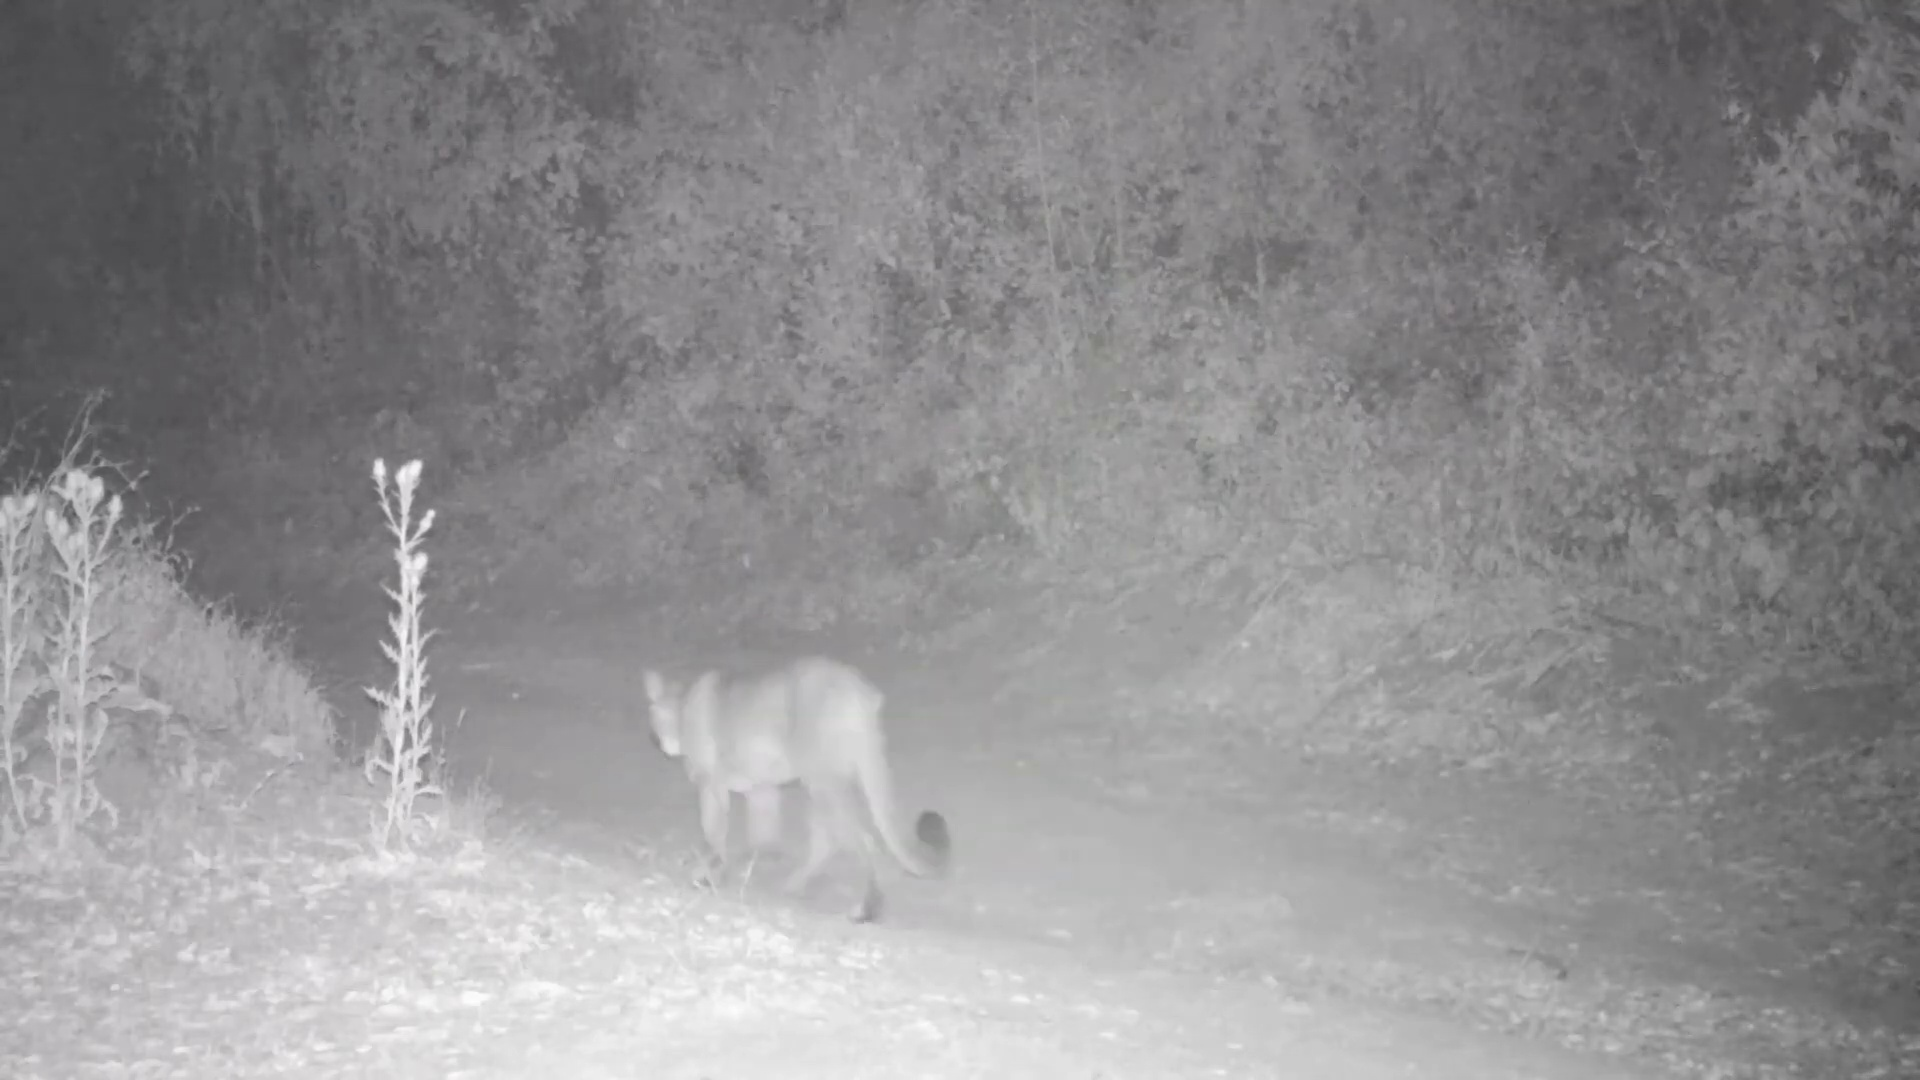Lion: (640, 653, 951, 922)
